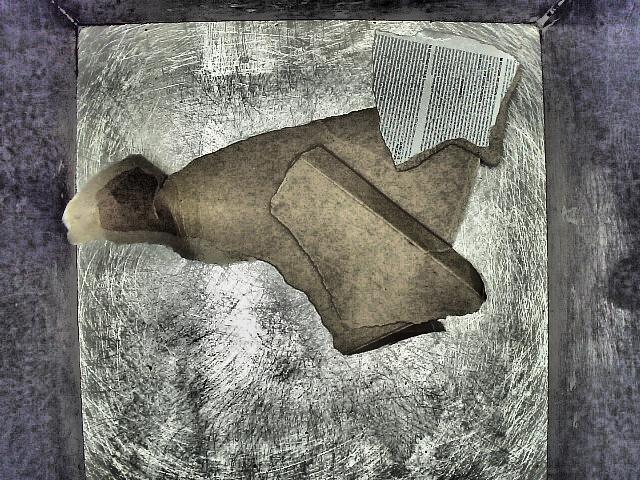Paper: (58, 22, 544, 353)
